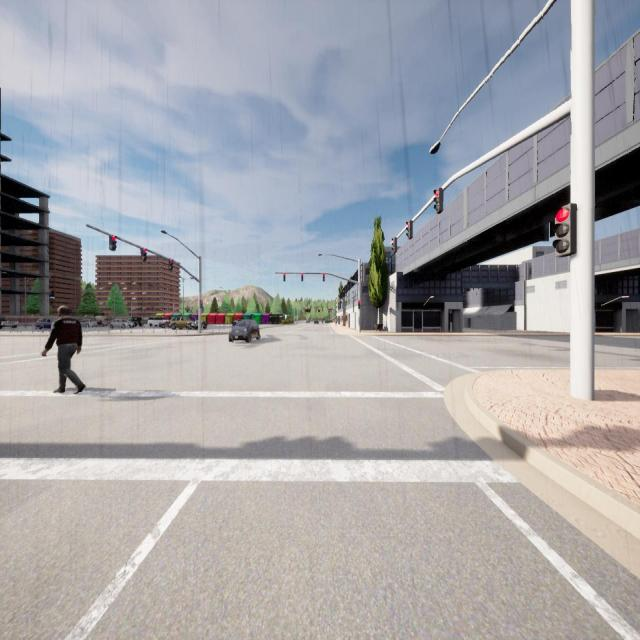Pedestrian: (41, 306, 85, 394), (334, 316, 338, 327)
Vehicle: (229, 320, 260, 342), (169, 316, 192, 330), (110, 319, 135, 329), (148, 316, 168, 328), (0, 315, 17, 328), (81, 316, 98, 329), (34, 317, 52, 329), (192, 320, 206, 330), (132, 316, 143, 328), (98, 315, 110, 326), (161, 320, 169, 328), (314, 319, 319, 325), (306, 319, 310, 324)
traffic_light: (553, 204, 577, 257), (434, 188, 443, 214), (109, 235, 117, 251), (406, 220, 412, 240), (141, 248, 147, 262), (392, 238, 397, 254), (168, 259, 174, 270), (199, 300, 203, 308), (283, 273, 286, 281), (358, 300, 360, 309), (301, 273, 303, 281), (323, 273, 325, 281)
